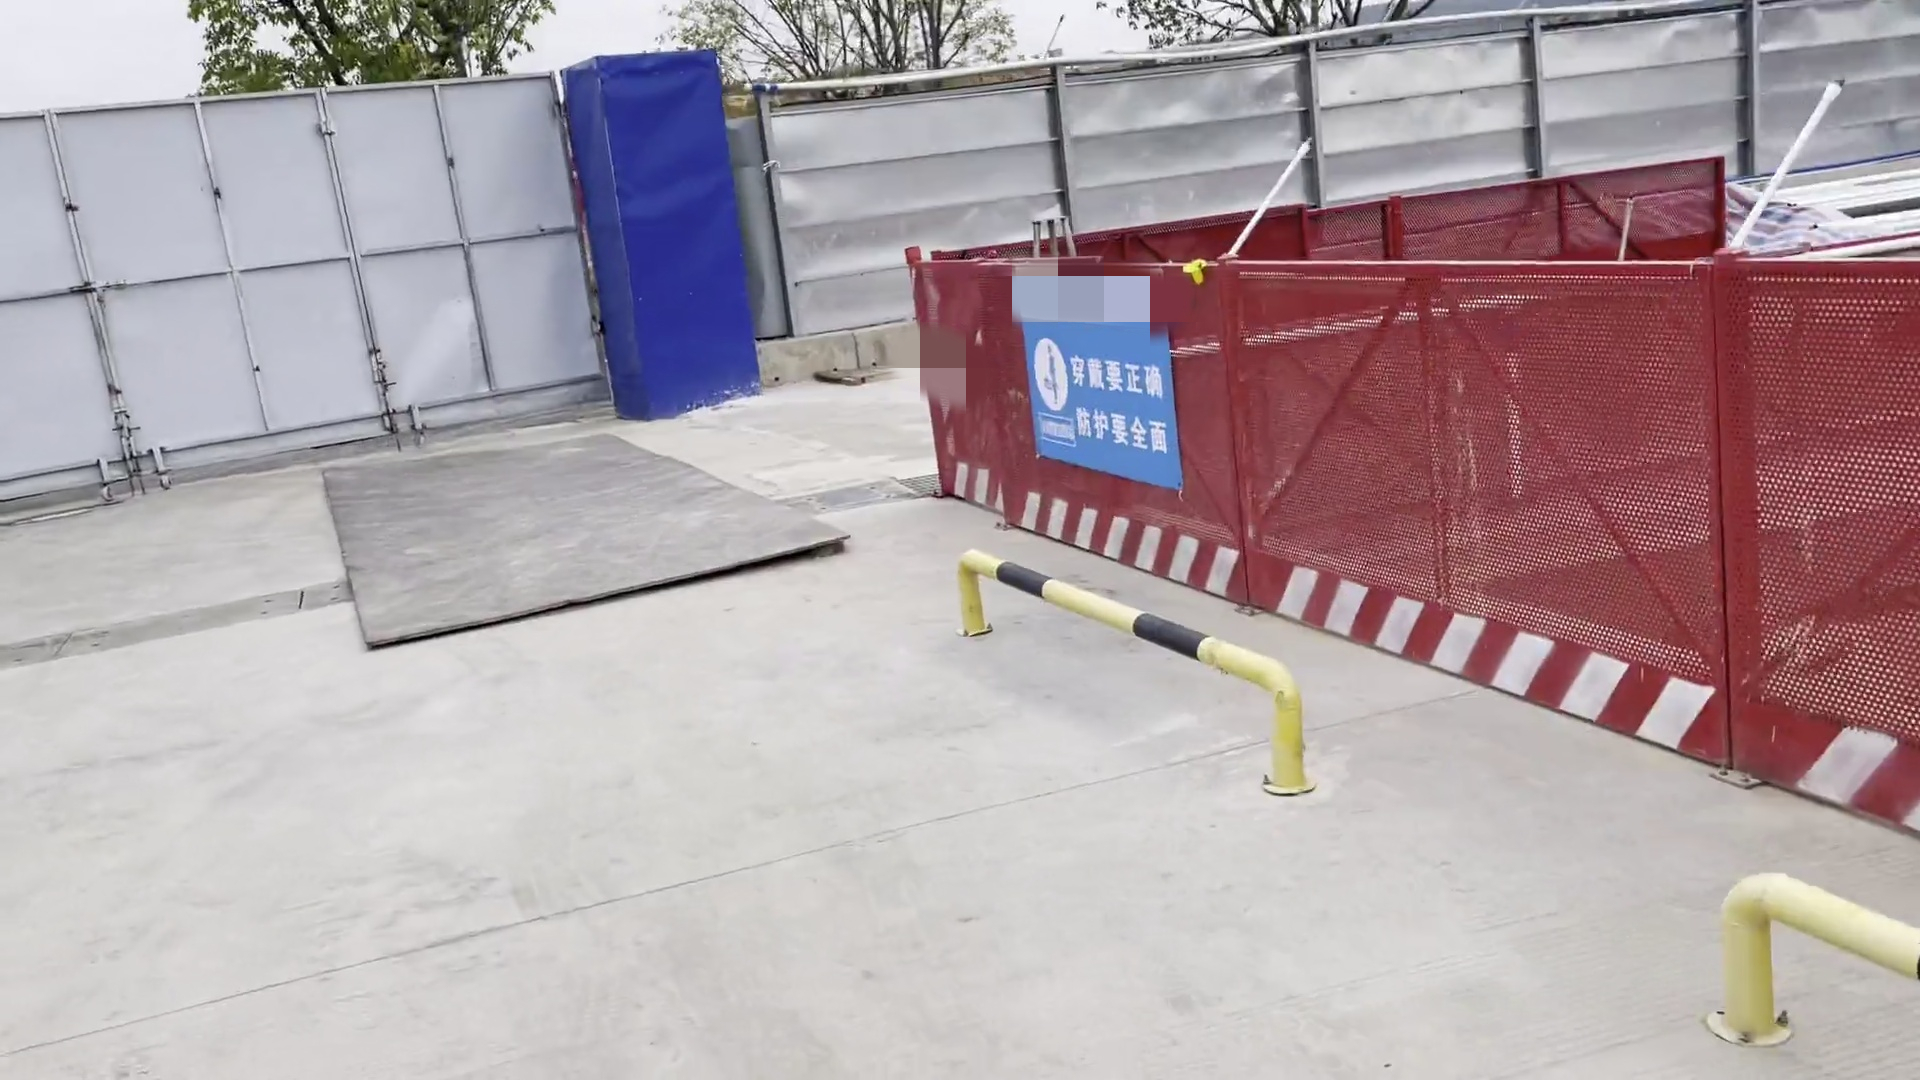fence: (895, 245, 1920, 843), (1046, 160, 1749, 295)
slogan: (986, 305, 1195, 508)
